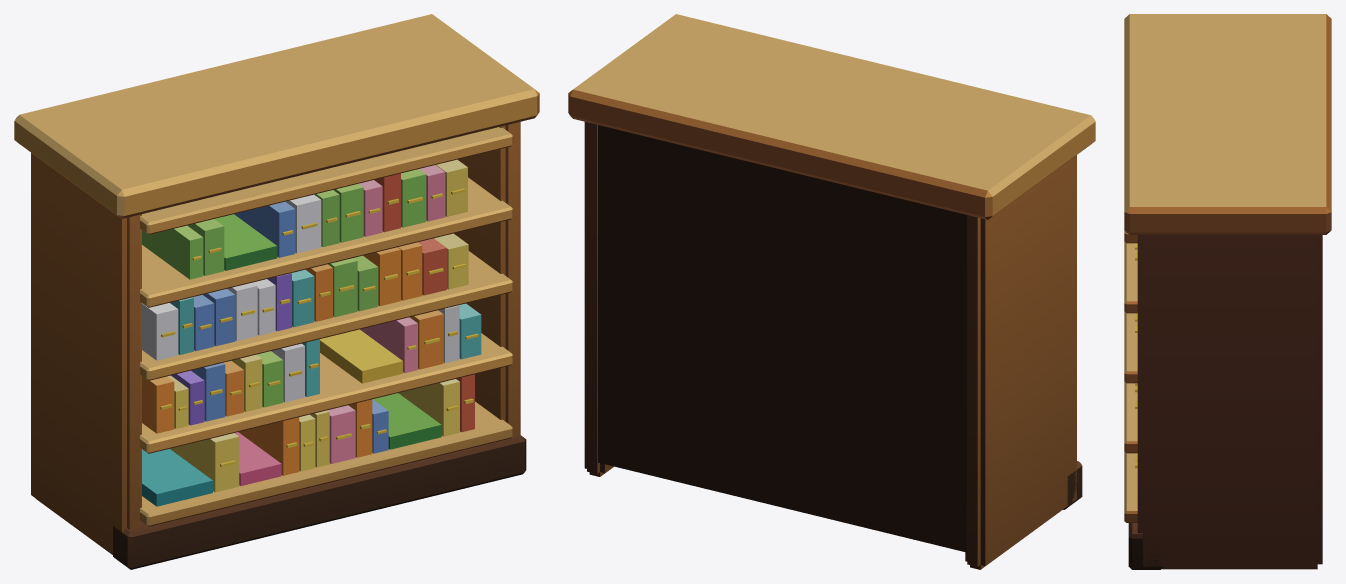
The model's file is bookshelf_low.glb.
3 views of the same model, side by side, from view 1: azimuth 30°, elevation 25°; view 2: azimuth 150°, elevation 25°; view 3: azimuth 270°, elevation 25° (orthographic). The views are drawn at different scales.
Visible parts, largest first — view 1: bookshelf_low; view 2: bookshelf_low; view 3: bookshelf_low.
Part boxes in pixels (x1,y1,x2,y2): bookshelf_low: (14, 14, 539, 569); bookshelf_low: (568, 14, 1095, 569); bookshelf_low: (1124, 14, 1331, 569).
Bounding box in the file's own units: 1.06 × 0.92 × 0.47.
